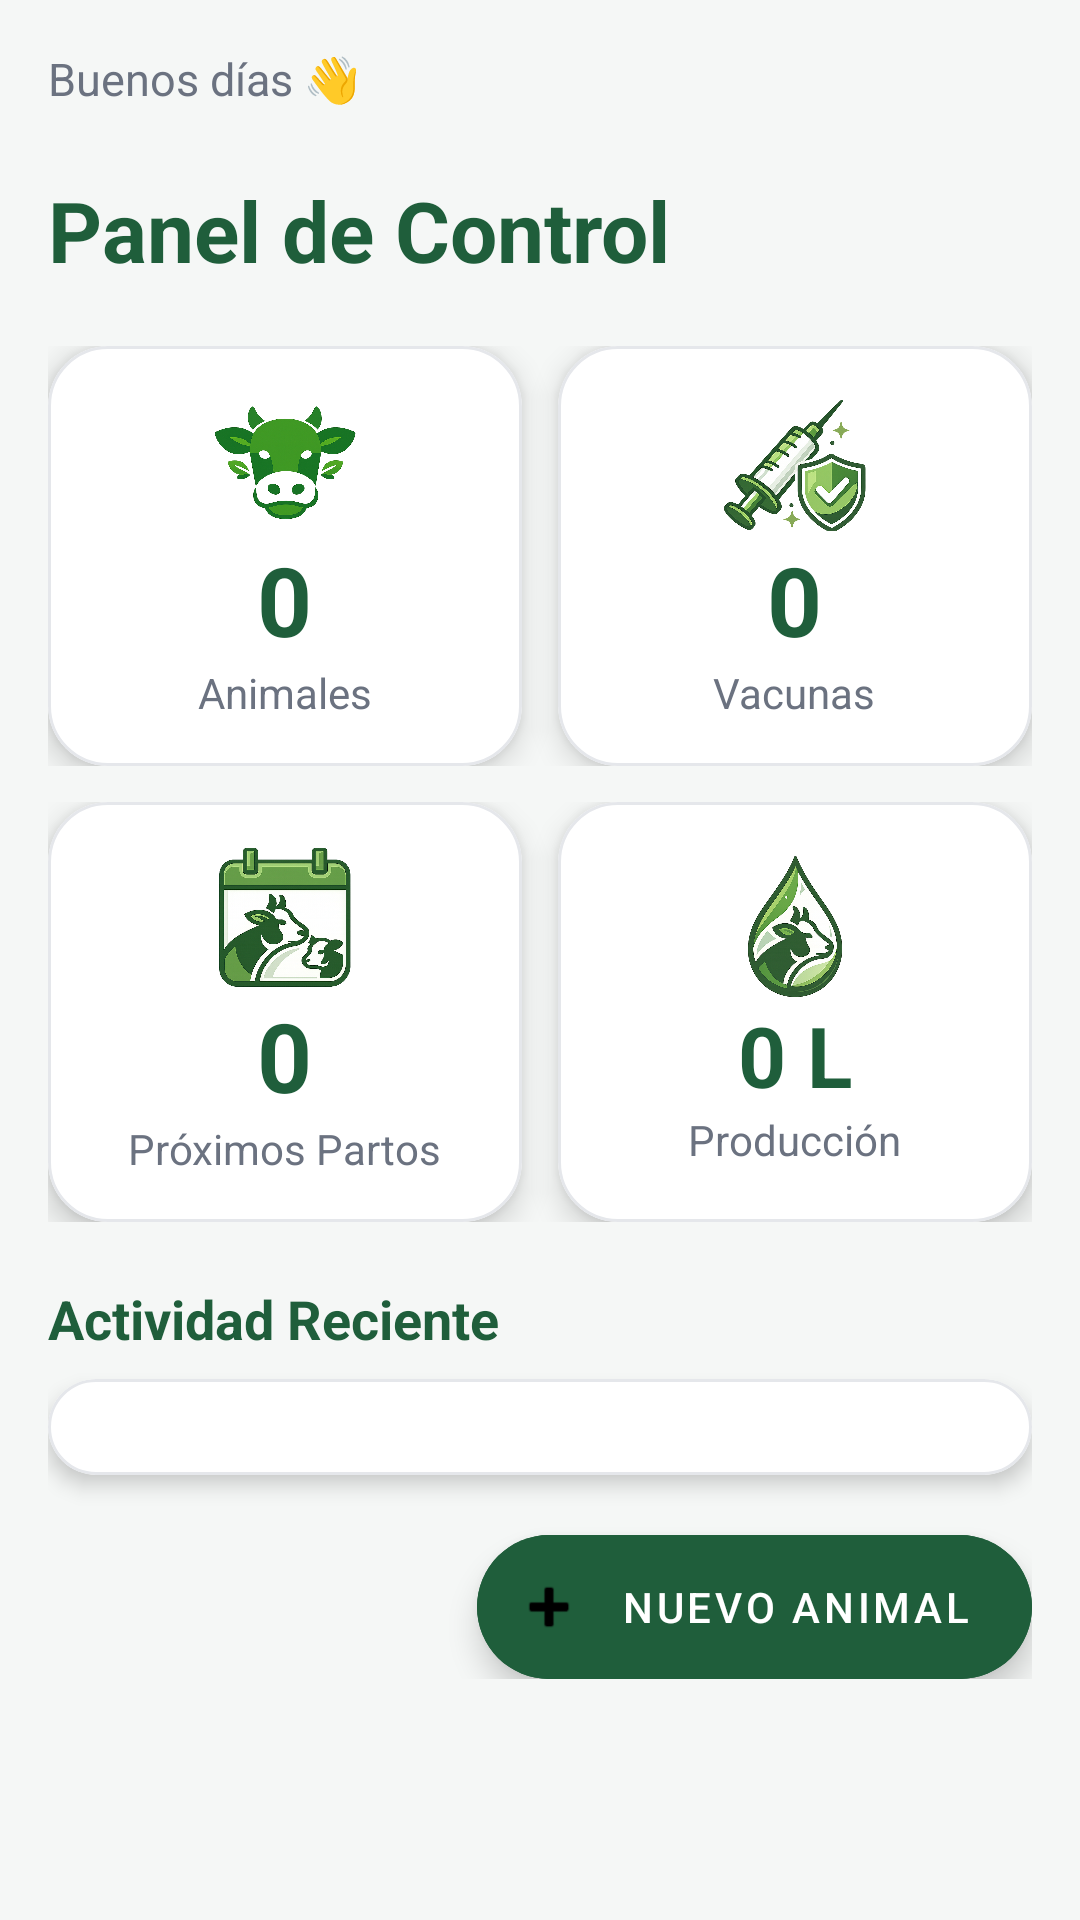

Where to tap for icons on this 1080*1920 app screen, as (x,y):
leche: (795,926)
vaca: (285,462)
